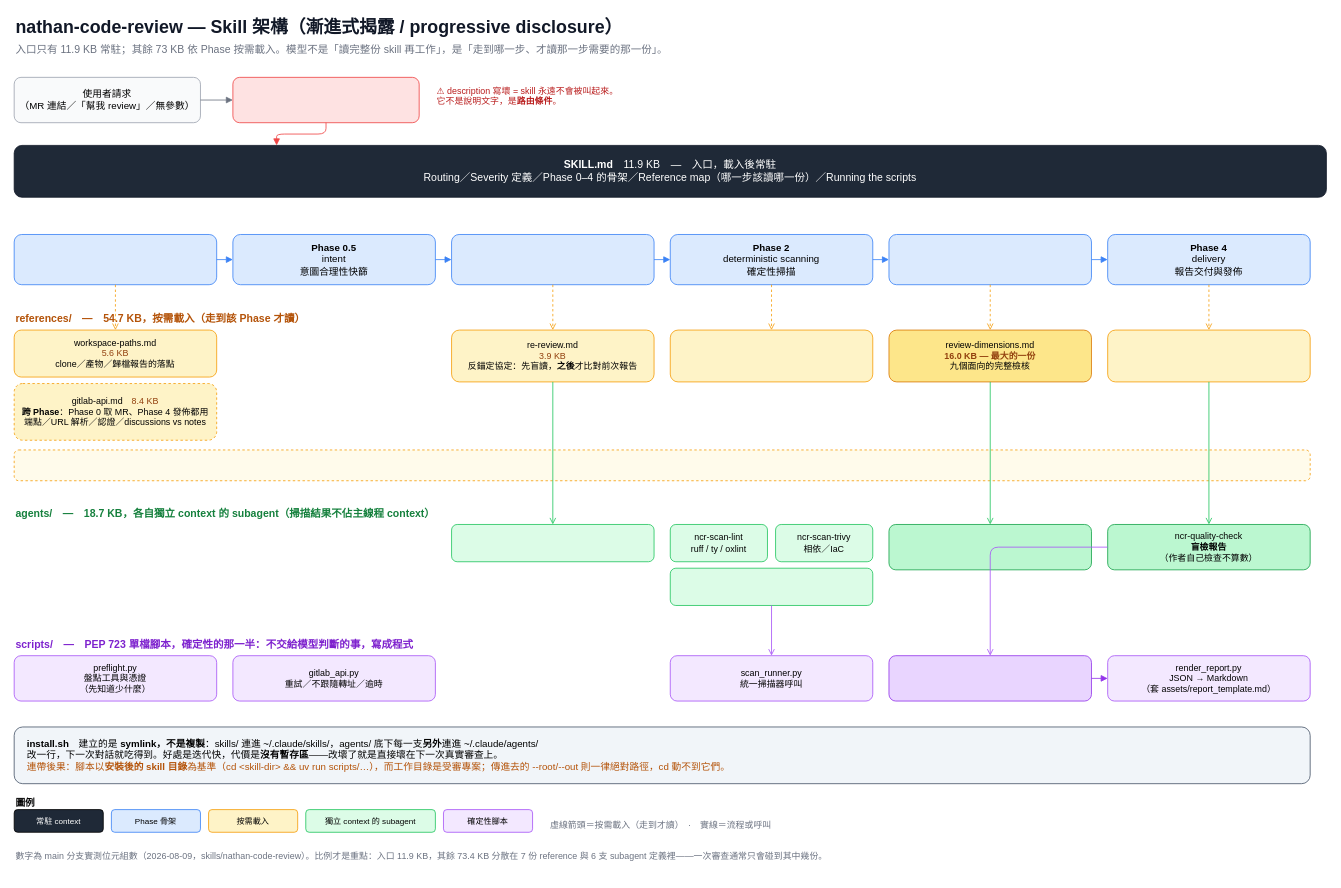
Image size: 1341x888. Some labels were removed from this diagram. The shapes that lost their labels are listed below. From the top down, each one's centre as x and y in pixels, then its label:
At (x=325, y=100): "frontmatter description （唯一「永遠在 context 裡」的東西）".
At (x=115, y=259): "Phase 0 entry point 取得審查目標".
At (x=552, y=259): "Phase 1 first review or re-review 分流：初審／複審".
At (x=989, y=259): "Phase 3 deep review 九面向深度審查".
At (x=771, y=355): "scanners.md 11.4 KB 呼叫方式／diff 歸因規則／ 工具不在時怎麼辦".
At (x=1208, y=355): "report-format.md 5.5 KB JSON 欄位／發佈版面／發佈規則".
At (x=661, y=465): "pushback.md 3.9 KB — 不掛在任何 Phase ：作者反駁已發佈的 finding 時才讀（事件觸發，可能是幾天後）".
At (x=552, y=543): "ncr-fetch-threads 取回作者回覆".
At (x=989, y=547): "ncr-fresh-eyes 無 checklist 的素讀 （只給 raw diff）".
At (x=771, y=586): "ncr-scan-opengrep SAST".
At (x=989, y=678): "report_model.py schema 驗證（會 exit 1） 模型繞不過去的那道閘".
